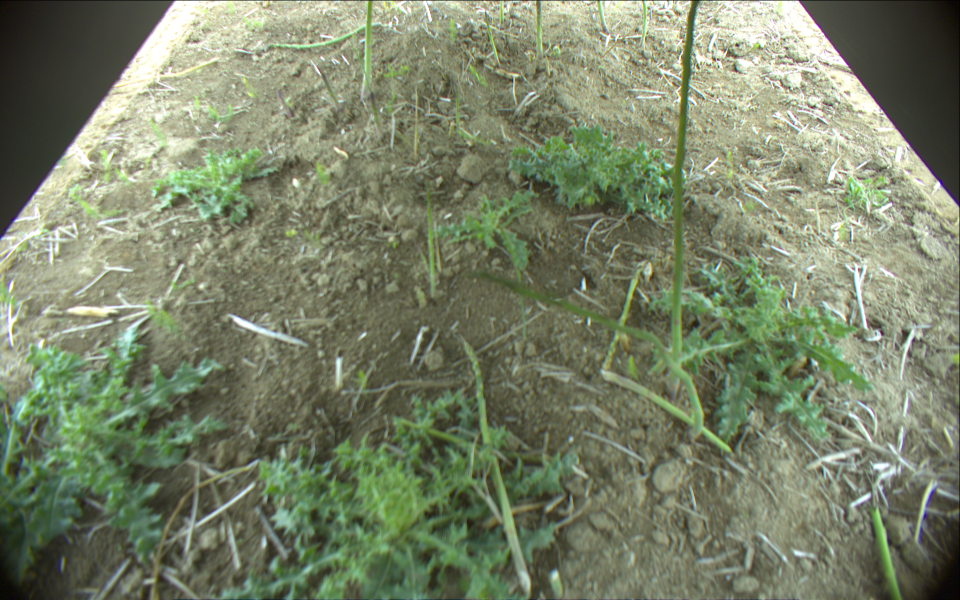aspa: (465, 268, 703, 436), (460, 335, 532, 593), (666, 1, 703, 401), (601, 374, 734, 453), (599, 275, 641, 374), (263, 22, 381, 55), (870, 508, 902, 600), (359, 64, 386, 141), (422, 181, 437, 295), (359, 1, 375, 97), (313, 63, 341, 111), (483, 9, 502, 72), (533, 1, 544, 56), (276, 89, 295, 118), (638, 1, 648, 48), (596, 1, 609, 35), (500, 1, 504, 26)
